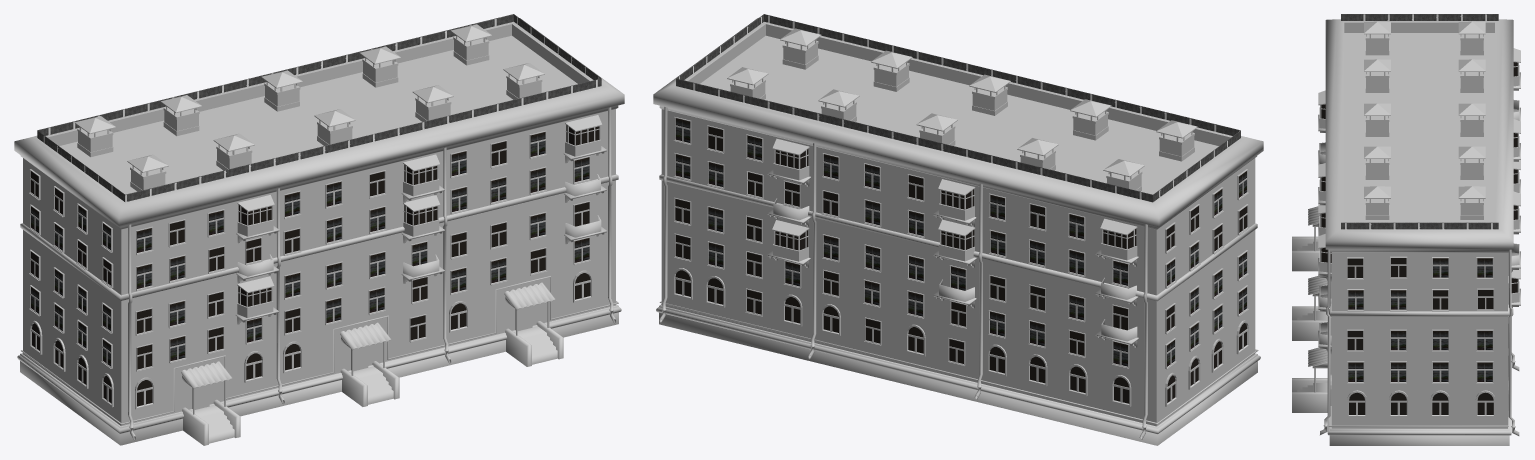
The model's file is building.fbx.
The picture shows the model from 3 angles, left to right: view 1: azimuth 30°, elevation 25°; view 2: azimuth 150°, elevation 25°; view 3: azimuth 270°, elevation 25°; orthographic projection. The views are drawn at different scales.
Visible parts, largest first — view 1: building; view 2: building; view 3: building.
Part boxes in pixels (x1=…): building: x1=14, y1=14, x2=624, y2=445; building: x1=653, y1=14, x2=1263, y2=445; building: x1=1292, y1=14, x2=1520, y2=445.
Bounding box in the file's own units: 7.3 × 3.54 × 3.19.
